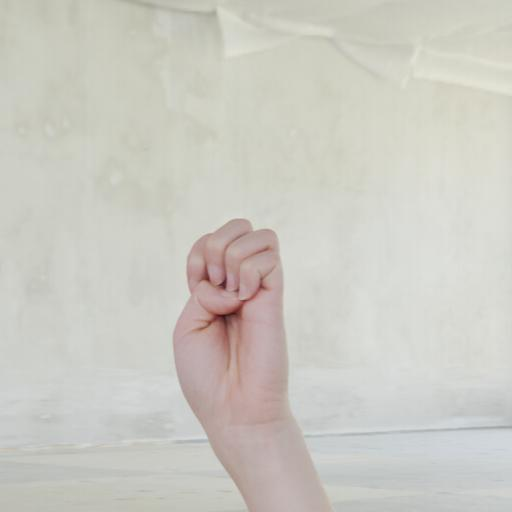E: (169, 213, 295, 416)
